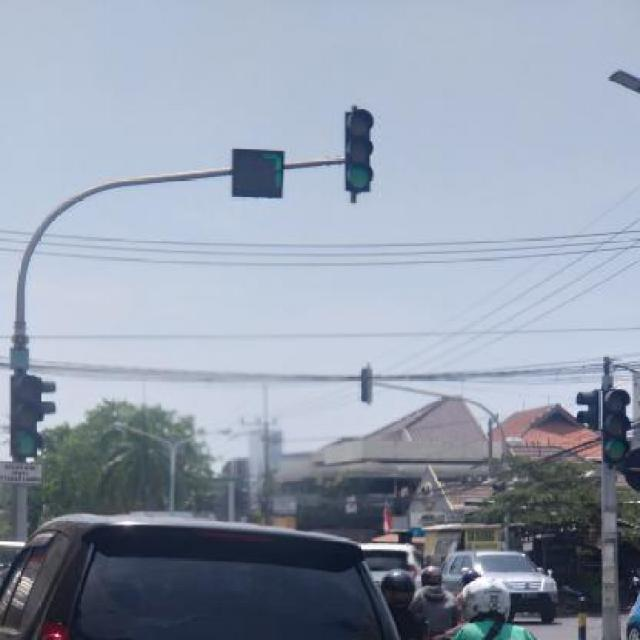traffic light: (13, 375, 43, 463), (345, 108, 373, 194)
